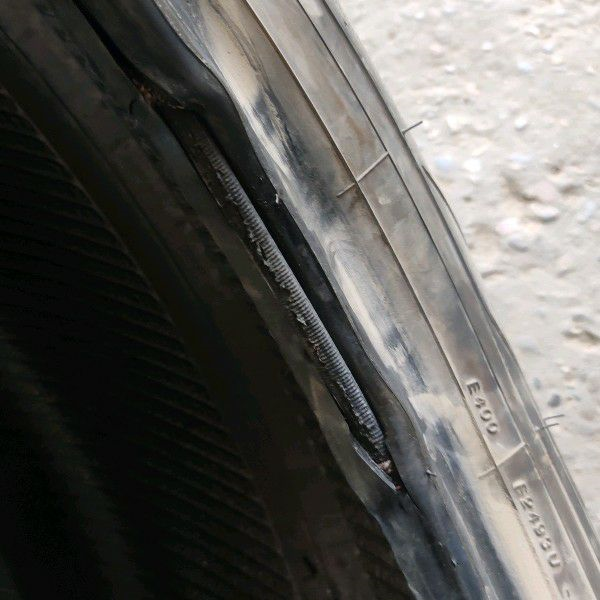bead_damage: (80, 2, 437, 526)
